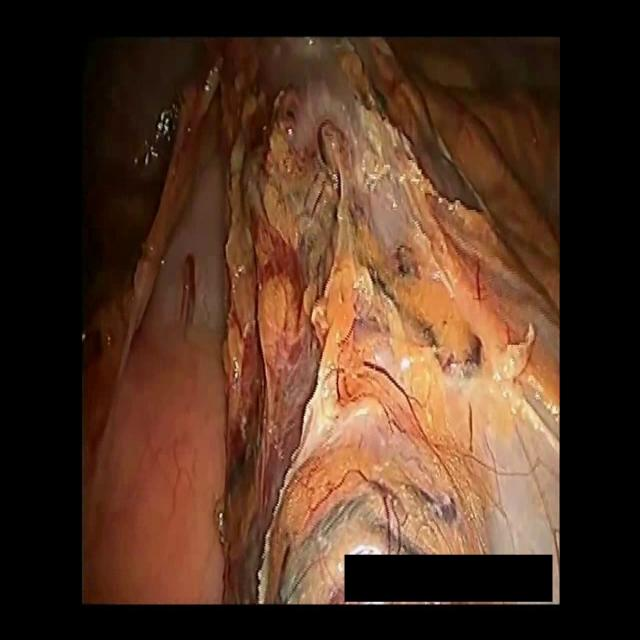surgical-area: (80, 36, 560, 604)
